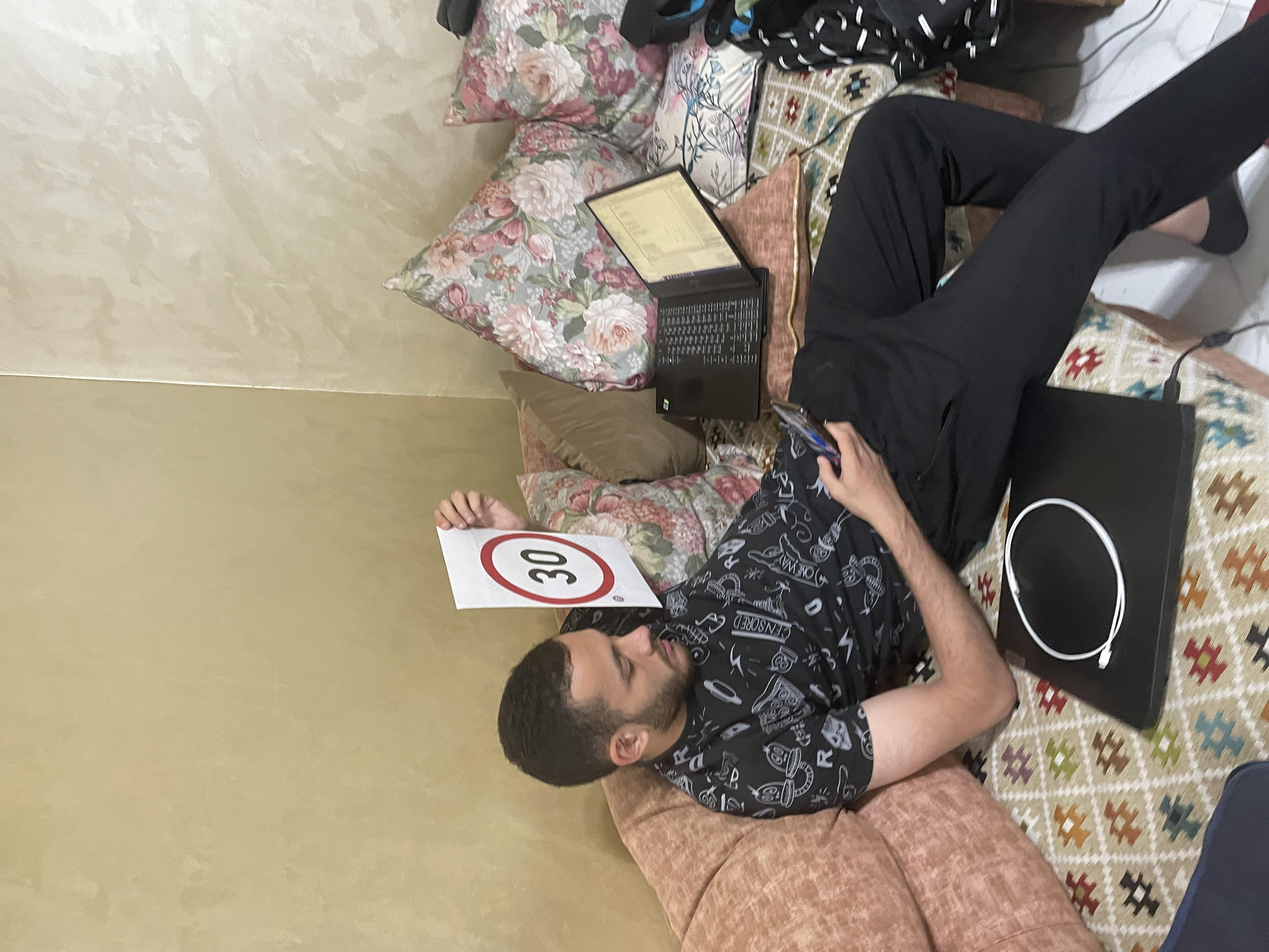30-speed: (467, 359, 566, 466)
